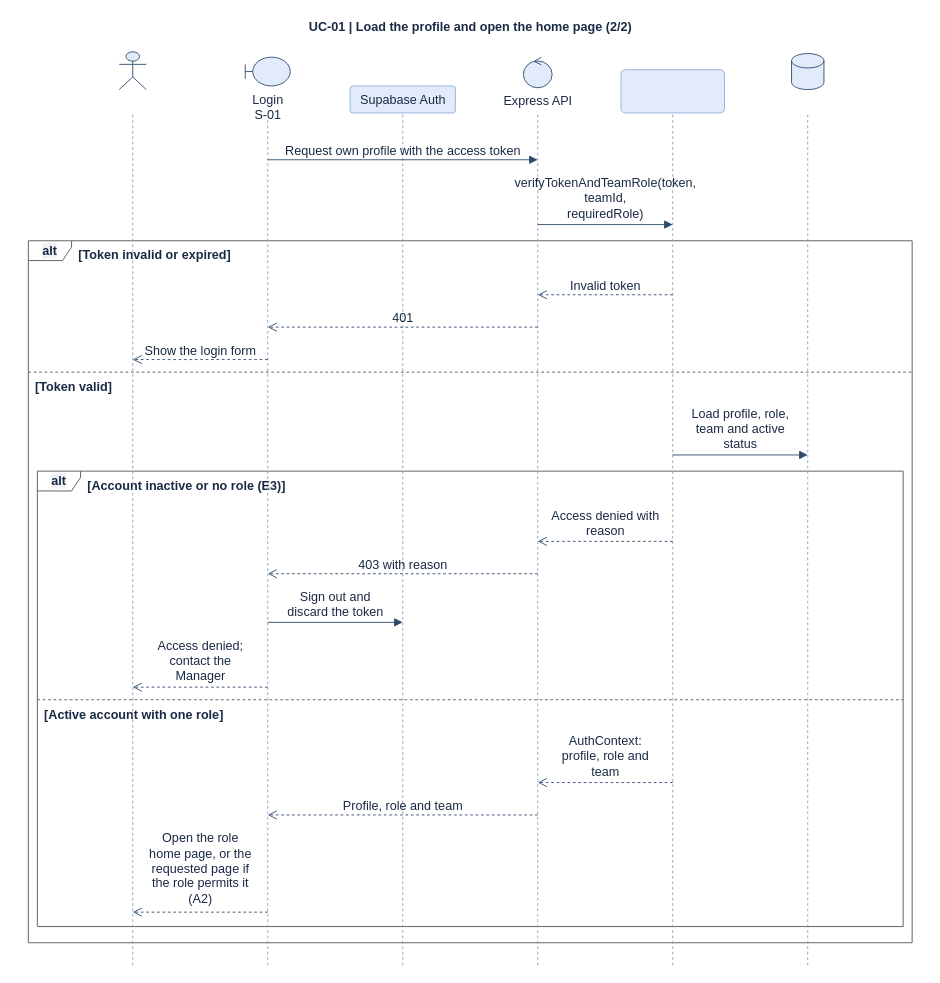
The diagram is 940 pixels wide and 983 high, and some of its shapes have lost their labels. The centre of each missing label's shape, as x and y in pixels:
":IdentityAccess Service" goes at (x=672, y=91).
"PostgreSQL" goes at (x=807, y=71).
"User" goes at (x=132, y=70).
